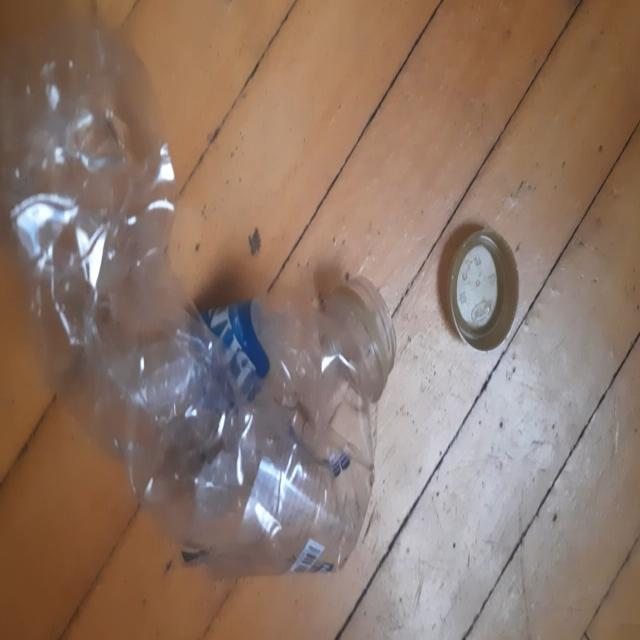Plastic: (3, 9, 389, 577)
